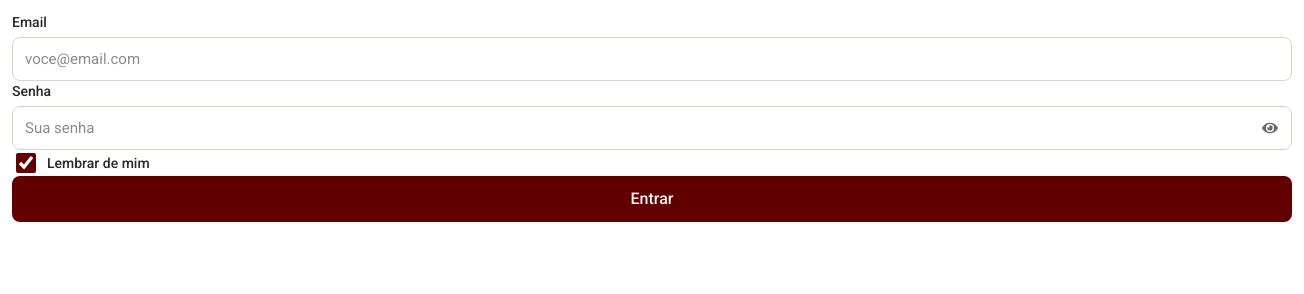
it: Login › valida os campos antes de enviar
Click the button "Entrar". click: (652, 199)
box: [12,176,1292,222]
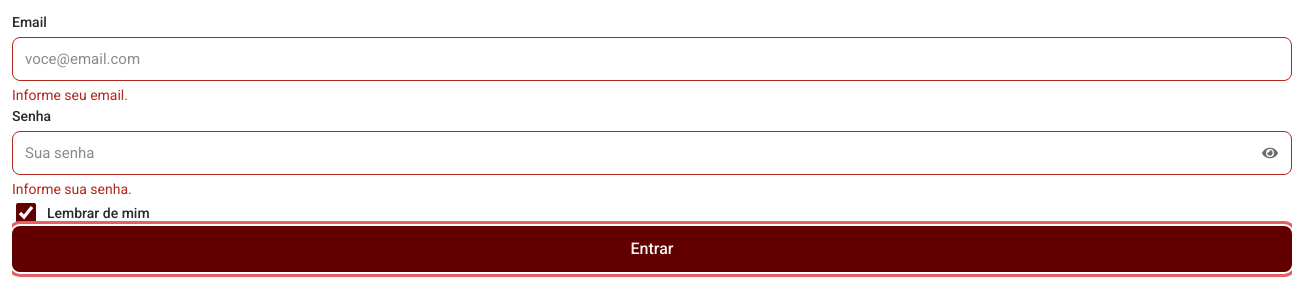
Result: the text "Informe seu email." is shown at [12,87,128,103]
Result: the text "Informe sua senha." is shown at [12,181,132,197]
